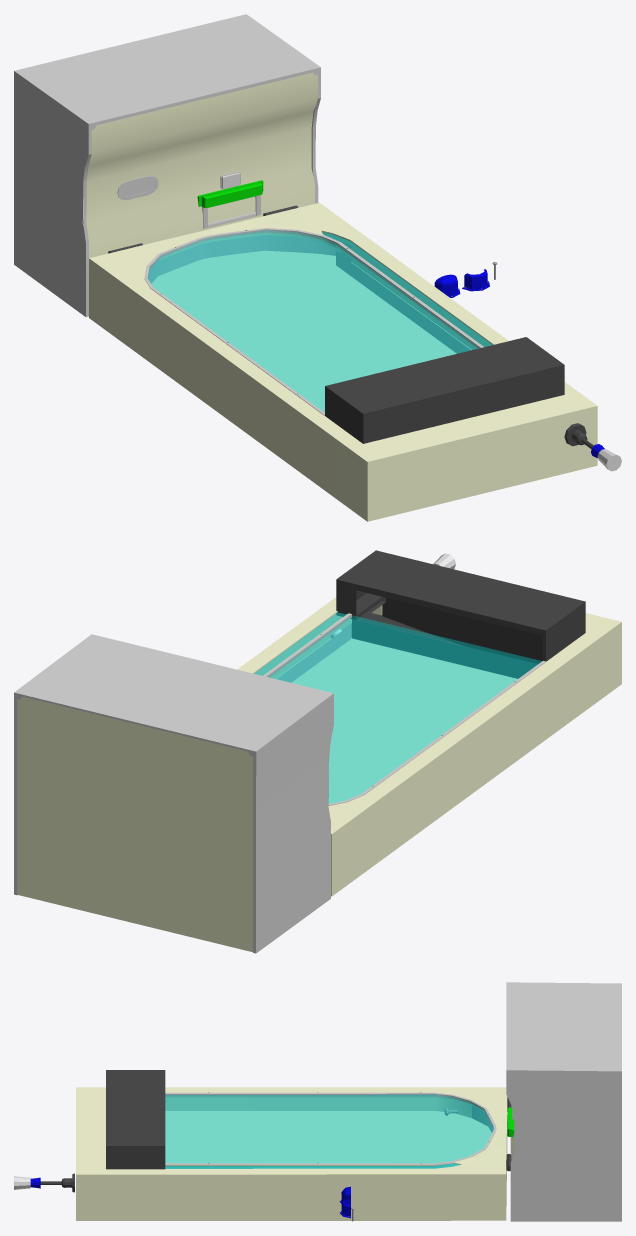
Rendered from Bord_ver02.fbx.
The picture shows the model from 3 angles, top to bottom: view 1: azimuth 30°, elevation 25°; view 2: azimuth 150°, elevation 25°; view 3: azimuth 270°, elevation 25°; orthographic projection. The views are drawn at different scales.
Parts seen in each view (by area): view 1: BASE, pCube13, Glass1, polySurface22, pCube5, Boll_Socket, polySurface6, polySurface12, polySurface11, Glass2, pPlane1, pCylinder3; view 2: polySurface22, BASE, pCube13, Glass1, Boll_Socket, pCube5, polySurface6, polySurface11, Glass2; view 3: BASE, pCube13, Glass1, Boll_Socket, pCube5, polySurface6, Glass2.
Part boxes in pixels (x1=…): BASE: x1=89, y1=202, x2=577, y2=507; pCube13: x1=14, y1=14, x2=320, y2=316; Glass1: x1=148, y1=230, x2=478, y2=412; polySurface22: x1=82, y1=72, x2=317, y2=257; pCube5: x1=348, y1=391, x2=597, y2=521; Boll_Socket: x1=325, y1=337, x2=564, y2=443; polySurface6: x1=144, y1=228, x2=483, y2=415; polySurface12: x1=148, y1=235, x2=292, y2=283; polySurface11: x1=336, y1=251, x2=470, y2=353; Glass2: x1=322, y1=231, x2=492, y2=346; pPlane1: x1=197, y1=180, x2=263, y2=207; pCylinder3: x1=117, y1=176, x2=158, y2=199; polySurface22: x1=17, y1=696, x2=330, y2=952; BASE: x1=237, y1=597, x2=601, y2=896; pCube13: x1=14, y1=634, x2=333, y2=953; Glass1: x1=268, y1=615, x2=541, y2=803; Boll_Socket: x1=336, y1=550, x2=585, y2=678; pCube5: x1=585, y1=613, x2=621, y2=698; polySurface6: x1=263, y1=613, x2=546, y2=805; polySurface11: x1=277, y1=624, x2=351, y2=682; Glass2: x1=254, y1=612, x2=345, y2=675; BASE: x1=106, y1=1087, x2=507, y2=1220; pCube13: x1=506, y1=982, x2=621, y2=1221; Glass1: x1=165, y1=1094, x2=493, y2=1168; Boll_Socket: x1=106, y1=1070, x2=165, y2=1169; pCube5: x1=76, y1=1087, x2=105, y2=1220; polySurface6: x1=165, y1=1092, x2=496, y2=1166; Glass2: x1=165, y1=1163, x2=459, y2=1168.
Bounding box in the file's own units: 4029 × 2428 × 8838.
